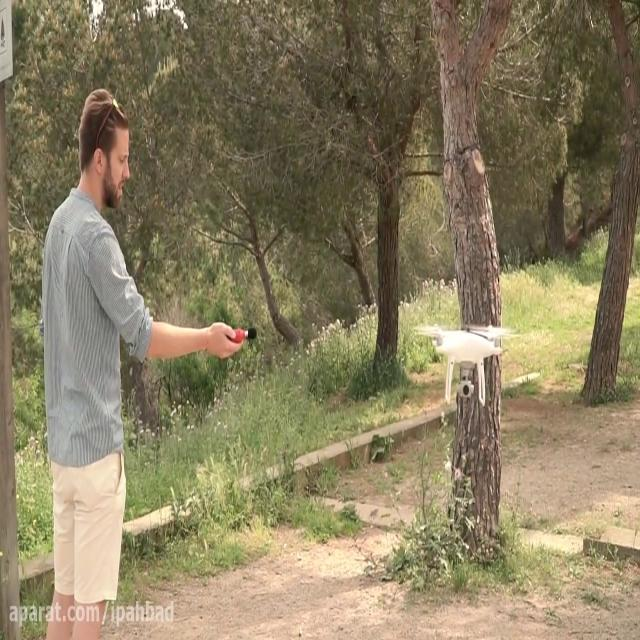drone: (412, 320, 520, 406)
